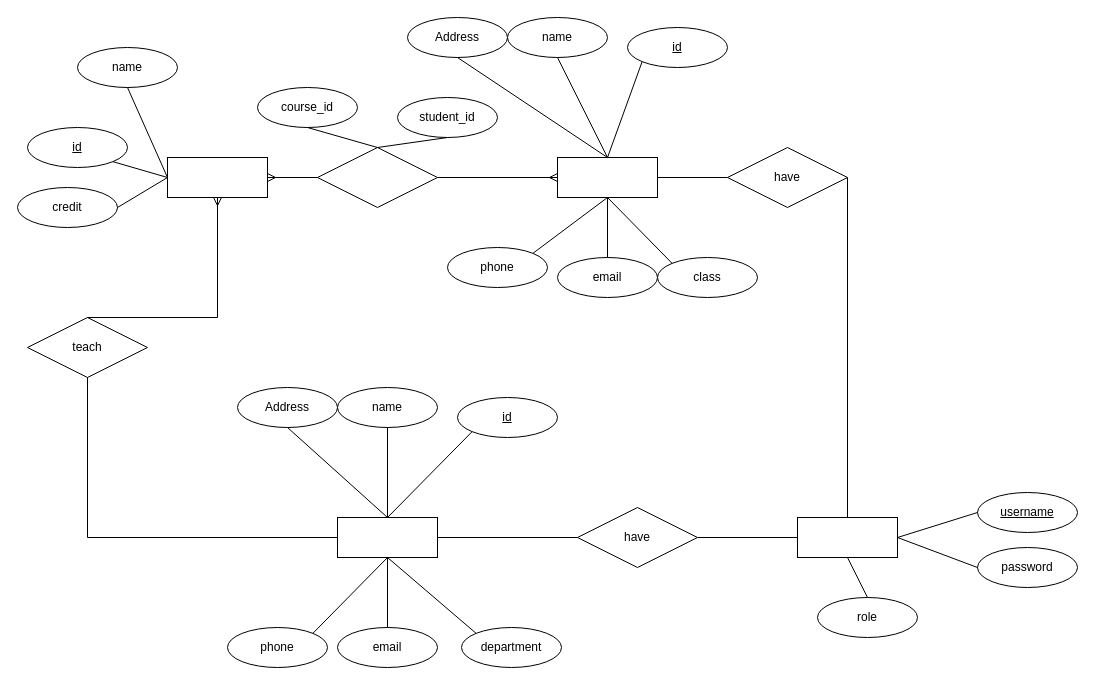
The diagram is 1095 pixels wide and 685 high, and some of its shapes have lost their labels. The shapes that lost their labels are listed below. From the top down, each one's box as (x1, y1, x2, y2) in pixels, then its label:
(166, 156, 268, 198): course
(316, 146, 438, 208): register
(556, 156, 658, 198): student
(336, 516, 438, 558): faculty
(796, 516, 898, 558): account
